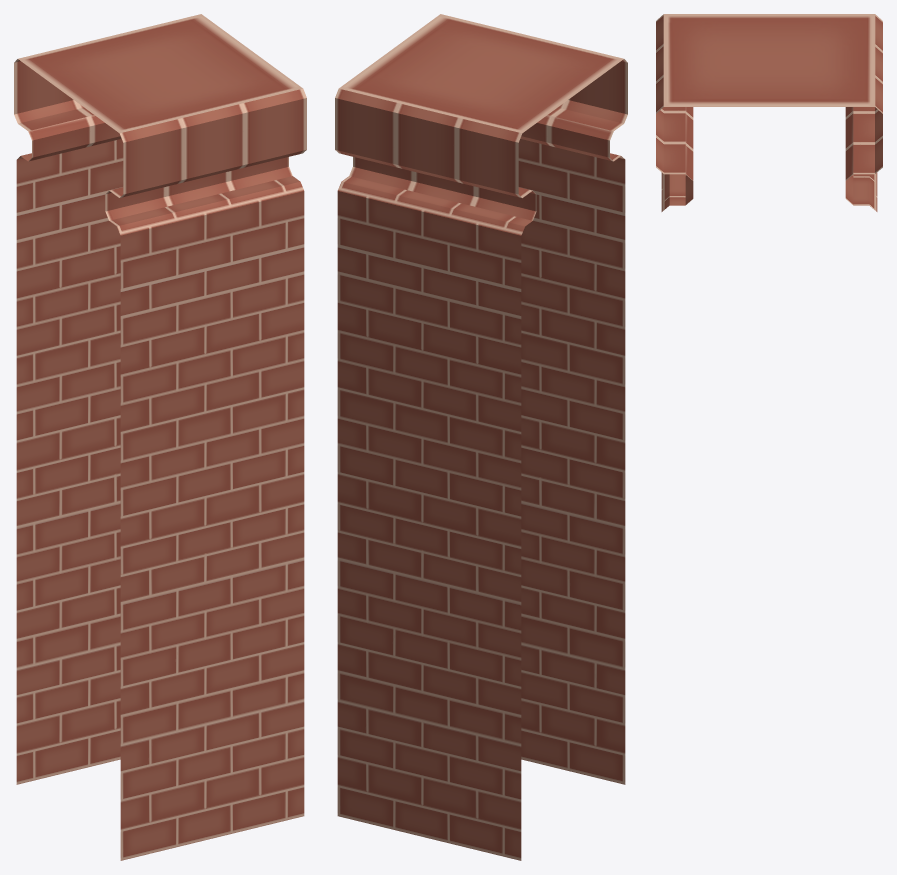
Rendered from schoolfence_short.fbx.
3 renders of one model, left to right at view 1: azimuth 30°, elevation 25°; view 2: azimuth 150°, elevation 25°; view 3: azimuth 270°, elevation 25°, orthographic. The views are drawn at different scales.
Visible parts, largest first — view 1: fence_short; view 2: fence_short; view 3: fence_short.
Part boxes in pixels (box(x1,y1,x2,y2)): fence_short: box(14, 14, 306, 860); fence_short: box(335, 14, 627, 860); fence_short: box(656, 14, 882, 211).
Size of the model in its own units: 1.25 by 4.71 by 1.28.
Materials: 1 (1 with a texture image).
